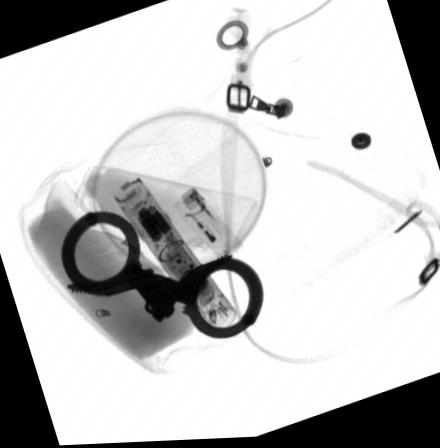Baton: (111, 177, 237, 332)
HandCuffs: (56, 208, 262, 341)
Lighter: (171, 186, 241, 262)
